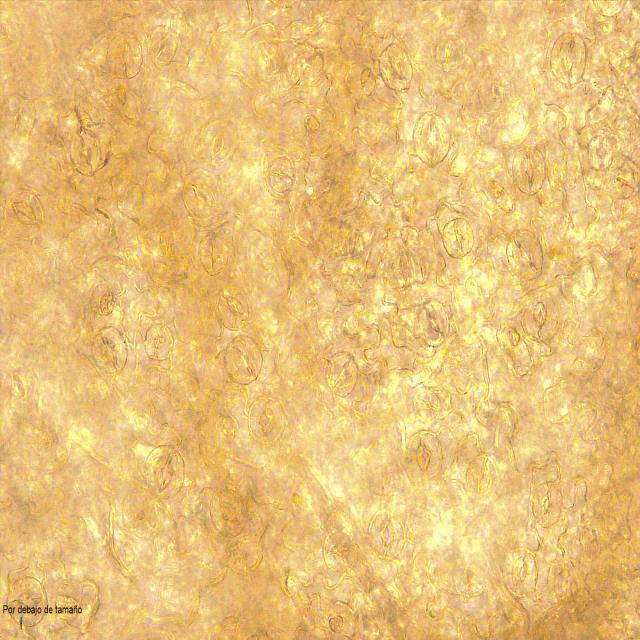Stomata: (143, 444, 187, 500), (411, 110, 453, 168), (549, 31, 588, 87), (224, 333, 264, 387), (181, 167, 221, 220), (208, 488, 249, 539), (505, 228, 545, 280), (520, 290, 560, 342), (5, 190, 44, 241), (367, 509, 406, 559), (502, 548, 539, 598), (106, 32, 143, 80), (247, 396, 284, 444), (92, 326, 129, 374), (512, 144, 546, 196), (477, 66, 513, 115), (408, 431, 444, 480), (378, 42, 413, 92), (416, 298, 451, 348), (324, 350, 360, 397), (531, 480, 564, 530), (215, 285, 250, 332), (203, 120, 237, 167), (146, 24, 180, 68), (68, 130, 100, 176), (322, 530, 357, 572)
